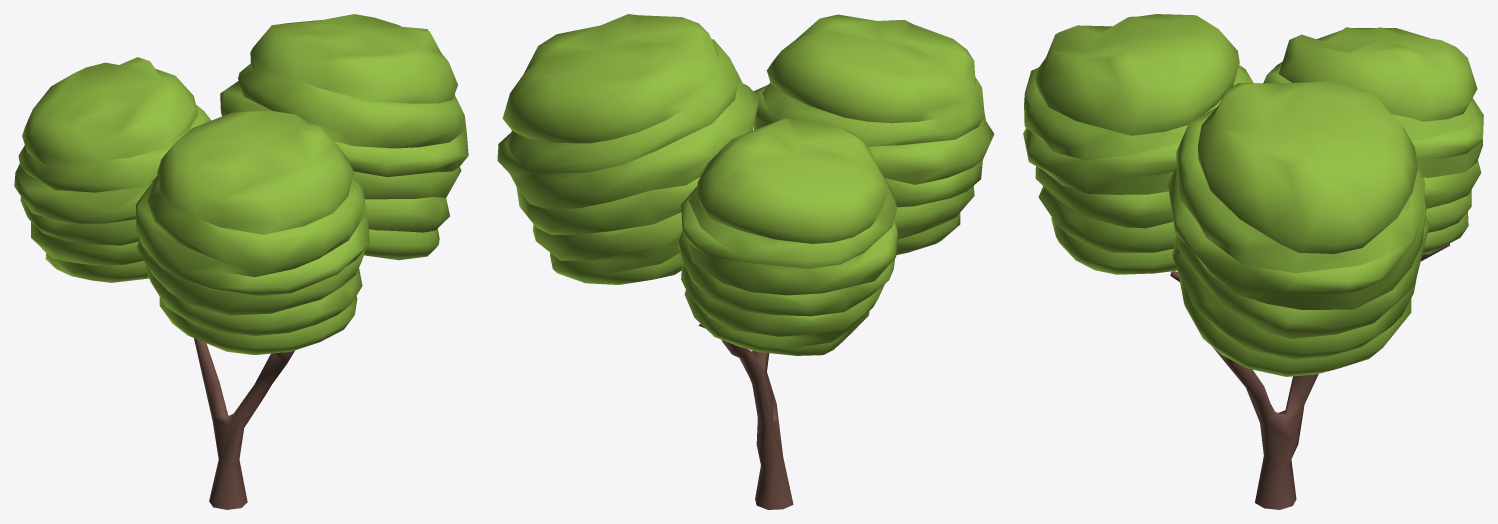
Rendered from fabulous_tree_015.glb.
The picture shows the model from 3 angles, left to right: view 1: azimuth 30°, elevation 25°; view 2: azimuth 150°, elevation 25°; view 3: azimuth 270°, elevation 25°; orthographic projection. The views are drawn at different scales.
Parts seen in each view (by area): view 1: fabulous_tree_015; view 2: fabulous_tree_015; view 3: fabulous_tree_015.
Boxes of the visible parts, <box> form: fabulous_tree_015: <box>14,14,468,509</box>; fabulous_tree_015: <box>497,14,994,509</box>; fabulous_tree_015: <box>1023,14,1483,509</box>.
Size of the model in its own units: 6.57 by 6.83 by 6.13.
1 material, 1 textured.
